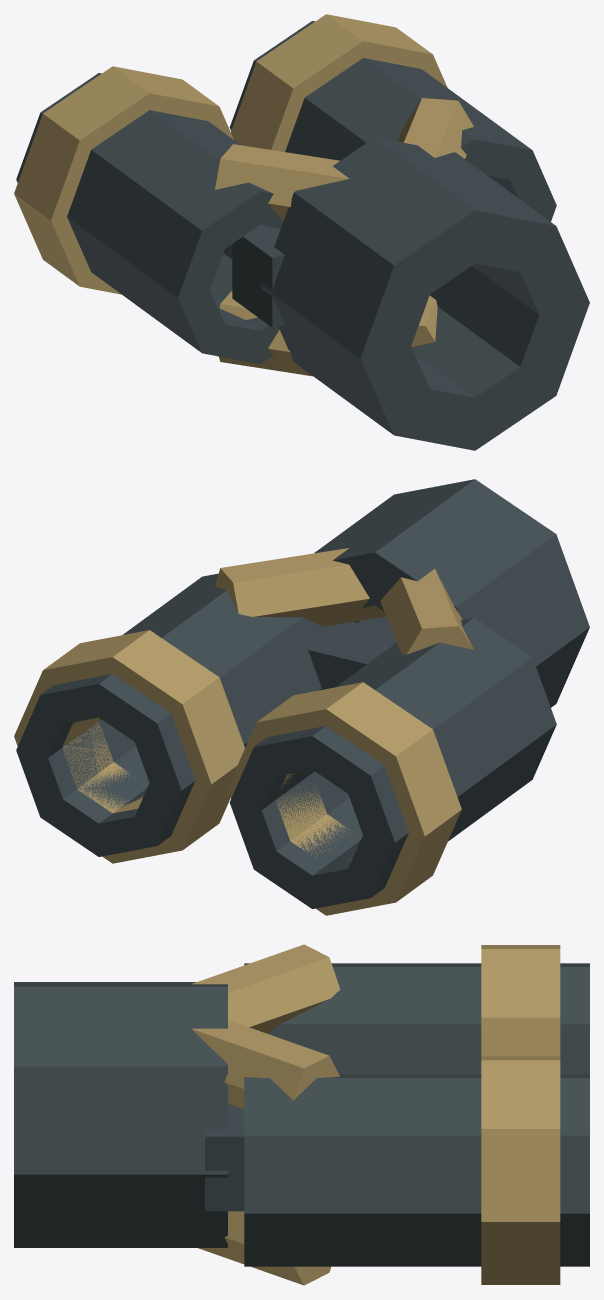
File: Socket_739.fbx
3 renders of one model, top to bottom at view 1: azimuth 30°, elevation 25°; view 2: azimuth 150°, elevation 25°; view 3: azimuth 270°, elevation 25°, orthographic. The views are drawn at different scales.
Parts seen in each view (by area): view 1: Socket_739; view 2: Socket_739; view 3: Socket_739.
Part boxes in pixels (x1=…): Socket_739: x1=14, y1=14, x2=589, y2=450; Socket_739: x1=14, y1=479, x2=589, y2=915; Socket_739: x1=14, y1=944, x2=589, y2=1285.
Size of the model in its own units: 0.154 by 0.086 by 0.175.
